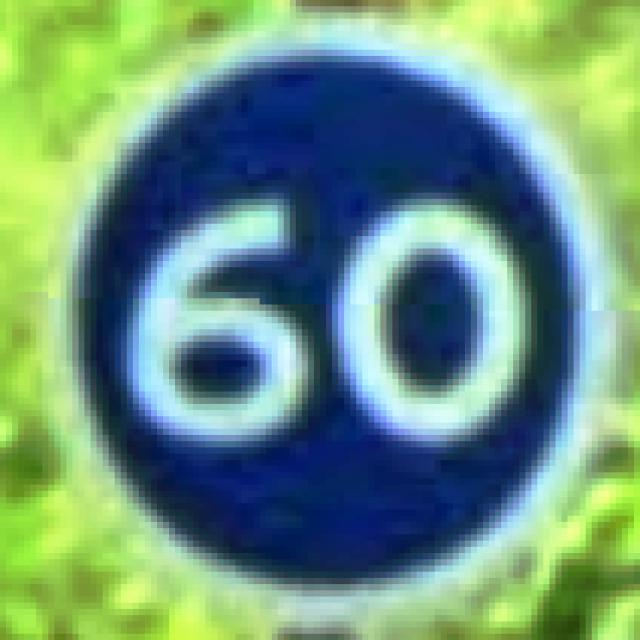min60: (48, 12, 598, 628)
